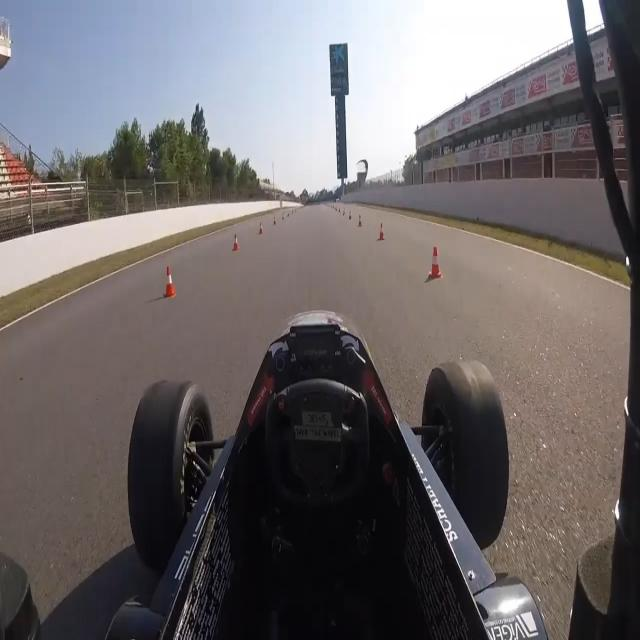orange_cone: (159, 261, 187, 304), (428, 242, 442, 279), (375, 220, 388, 252), (229, 225, 243, 252), (257, 210, 265, 242), (357, 213, 363, 229)
